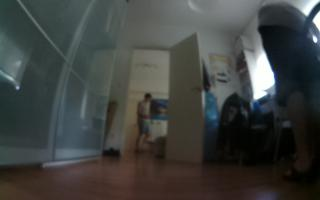person: (249, 1, 320, 187), (132, 90, 163, 158)
